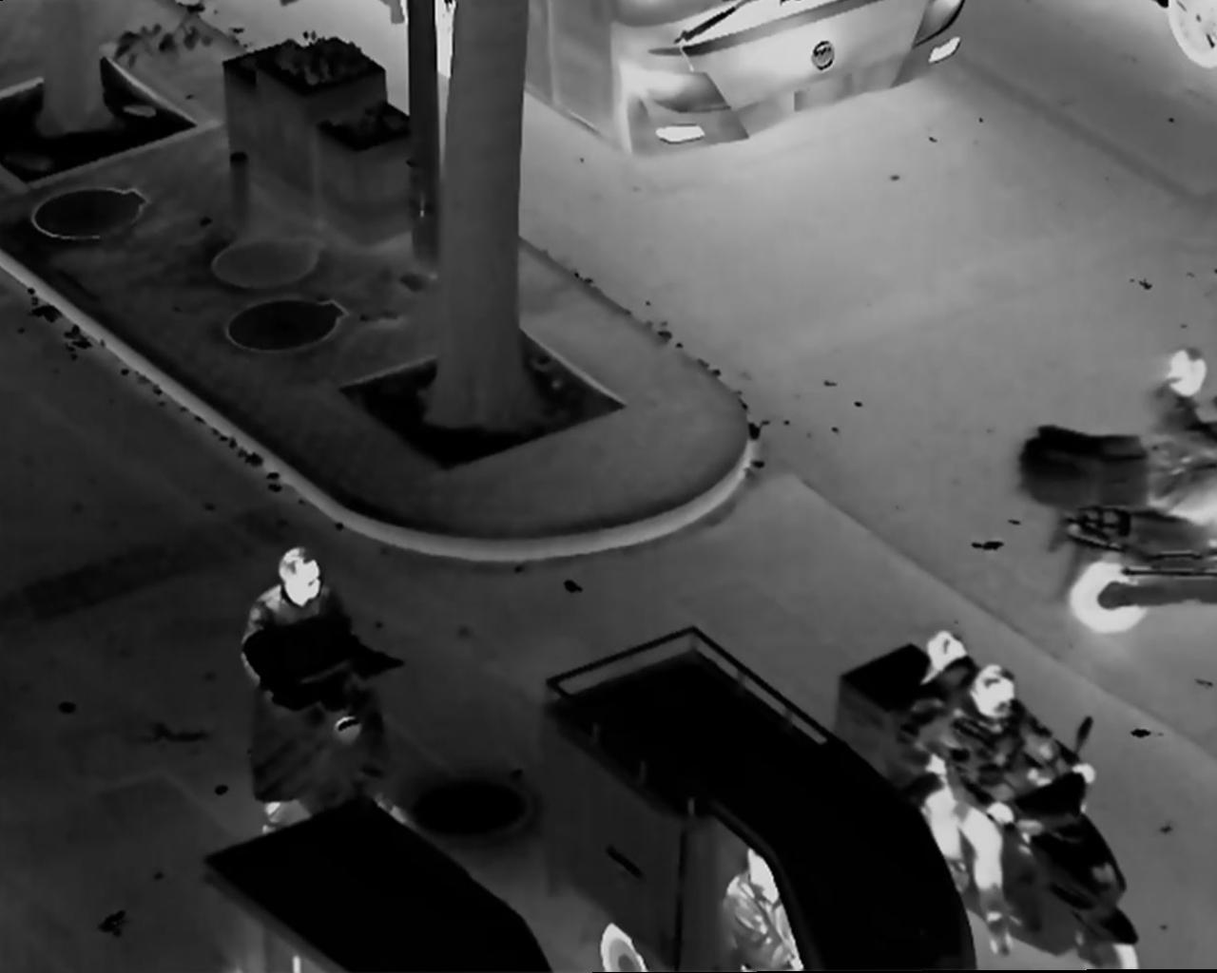person: (240, 541, 387, 843), (952, 663, 1093, 943), (906, 621, 992, 897), (1136, 343, 1217, 552), (721, 851, 802, 973)
